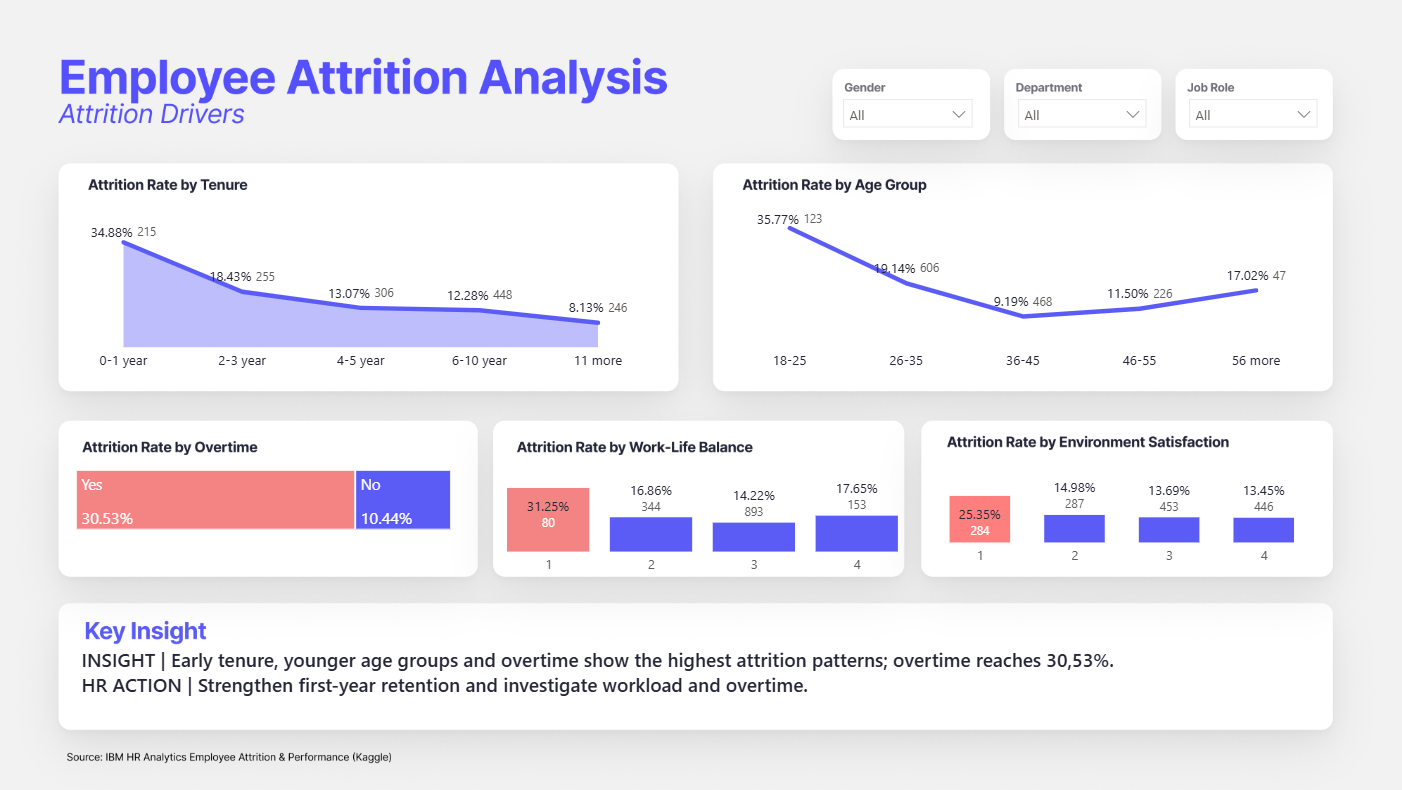

The dashboard page shown, as its layout file describes it:
{"tool":"powerbi","page":{"name":"Attrition Drivers","canvas":[1280,720],"ordinal":1},"visuals":[{"type":"image","box":[0,0,1280,720],"z":0},{"type":"clusteredColumnChart","fields":{"Category":["Planilha1.WorkLifeBalance"],"Y":["Planilha1.Attrition_Rate"]},"box":[461,411.2,355.6,115.6],"z":1000},{"type":"lineChart","fields":{"Category":["Planilha1.Age Group"],"Y":["Planilha1.Attrition_Rate"]},"box":[676.1,185.9,509.3,155.1],"z":2000},{"type":"areaChart","fields":{"Category":["Planilha1.Tenure Group"],"Y":["Planilha1.Attrition_Rate"]},"box":[68.8,197.6,518,143.4],"z":3000},{"type":"treemap","fields":{"Group":["Planilha1.OverTime"],"Values":["Planilha1.Attrition_Rate"]},"box":[68.8,427.3,341,54.1],"z":4000},{"type":"slicer","fields":{"Values":["Planilha1.Gender"]},"box":[756.6,80.5,137.6,42.4],"z":5000},{"type":"slicer","fields":{"Values":["Planilha1.Department"]},"box":[916,80.3,136.7,42.7],"z":6000},{"type":"slicer","fields":{"Values":["Planilha1.JobRole"]},"box":[1071.5,80.3,136.7,42.7],"z":7000},{"type":"cardVisual","fields":{"Data":["Planilha1.Drivers_Insight"]},"box":[49.8,548.8,1148.8,122.9],"z":8000},{"type":"columnChart","fields":{"Category":["Planilha1.EnvironmentSatisfaction"],"Y":["Planilha1.Attrition_Rate"]},"box":[857.1,418.6,327.1,100],"z":9000}]}

Visuals, with their boxes in screenshot pixels (x1, y1, x2, y2), scaled from the page's 1280x720 canvas onto the 1402x790 screenshot:
image: detection(0, 0, 1401, 789)
clusteredColumnChart - Planilha1.WorkLifeBalance x Planilha1.Attrition_Rate: detection(505, 451, 894, 578)
lineChart - Planilha1.Age Group x Planilha1.Attrition_Rate: detection(741, 204, 1298, 374)
areaChart - Planilha1.Tenure Group x Planilha1.Attrition_Rate: detection(75, 217, 643, 374)
treemap - Planilha1.OverTime x Planilha1.Attrition_Rate: detection(75, 469, 449, 528)
slicer - Planilha1.Gender: detection(829, 88, 979, 135)
slicer - Planilha1.Department: detection(1003, 88, 1153, 135)
slicer - Planilha1.JobRole: detection(1174, 88, 1323, 135)
cardVisual - Planilha1.Drivers_Insight: detection(55, 602, 1313, 737)
columnChart - Planilha1.EnvironmentSatisfaction x Planilha1.Attrition_Rate: detection(939, 459, 1297, 569)
